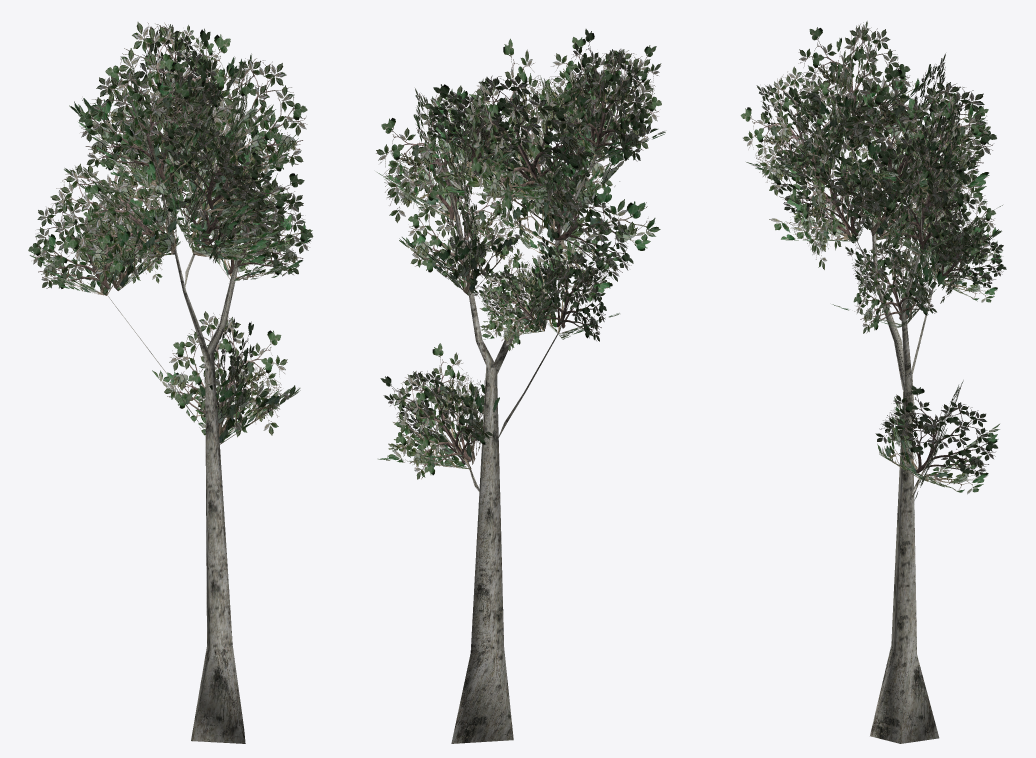
The model's file is decd_whitebirchtreeleaves_l1.fbx.
3 renders of one model, left to right at view 1: azimuth 30°, elevation 25°; view 2: azimuth 150°, elevation 25°; view 3: azimuth 270°, elevation 25°, orthographic. The views are drawn at different scales.
Visible parts, largest first — view 1: mesh_node; view 2: mesh_node; view 3: mesh_node.
Part boxes in pixels (x1,y1,x2,y2): mesh_node: (28,22,313,743); mesh_node: (376,29,665,743); mesh_node: (740,21,1006,743).
Size of the model in its own units: 7.19 by 17.07 by 6.82.
